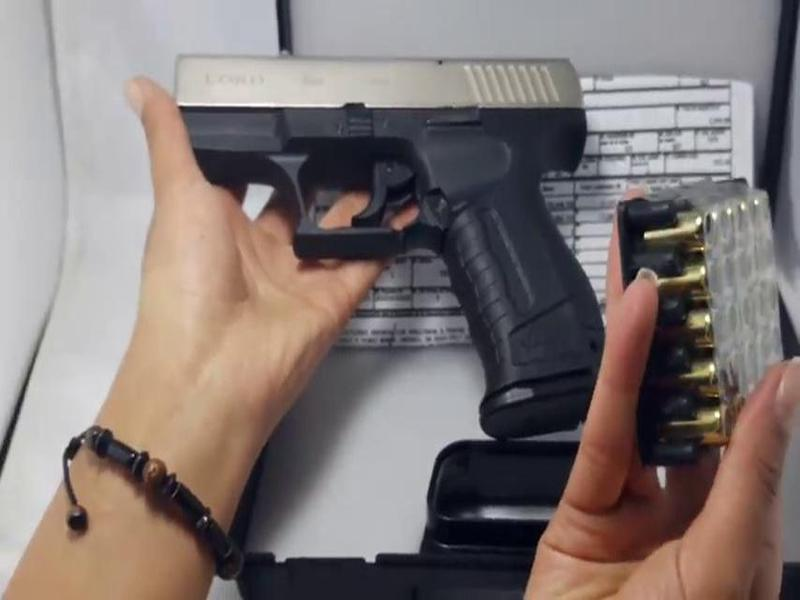Pistola: (157, 35, 631, 424)
